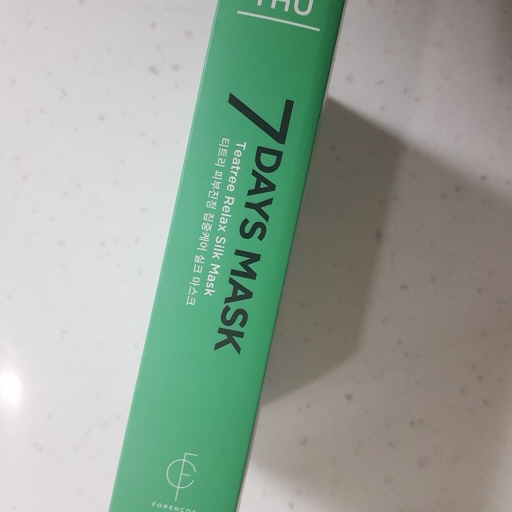Paper_0: (105, 1, 357, 512)
